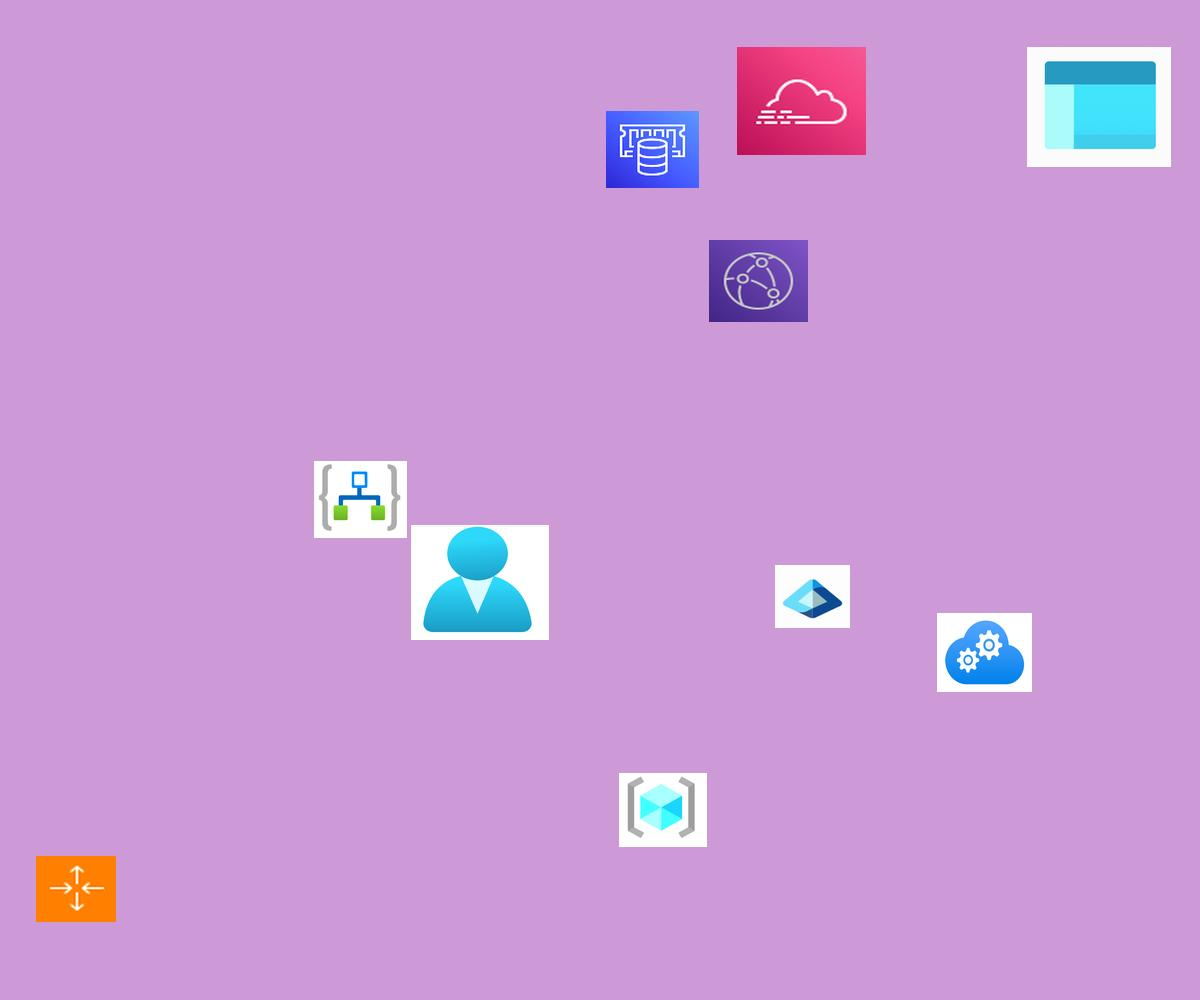AWS-CloudFront: (709, 240, 808, 322)
AWS-CloudTrail: (737, 47, 866, 155)
AWS-ElastiCache: (606, 111, 699, 188)
AWS-Scaling-group: (36, 856, 116, 922)
Azure_cloud_services: (937, 613, 1032, 692)
Azure_integration-204-Logic-Apps: (314, 461, 407, 538)
Azure_management-portal: (1027, 47, 1171, 167)
Azure_microsoft_entra: (775, 565, 850, 628)
Azure_resource_group: (619, 773, 707, 847)
Azure_users: (411, 525, 549, 640)
